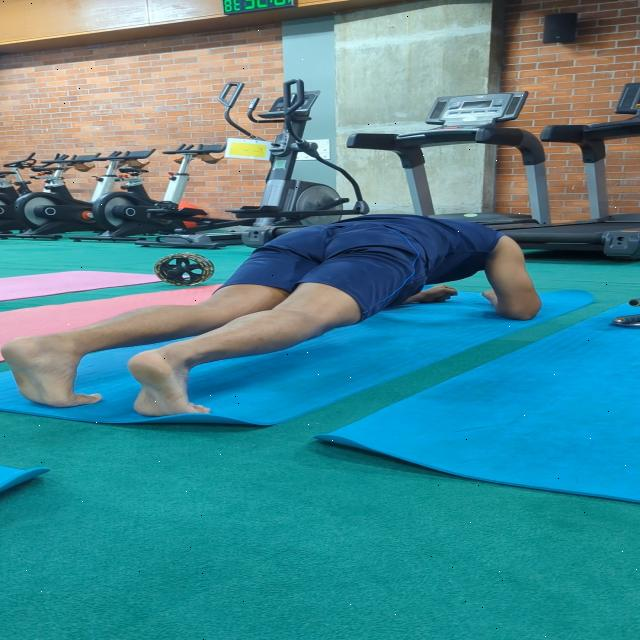Normal_Plunk: (0, 203, 540, 416)
